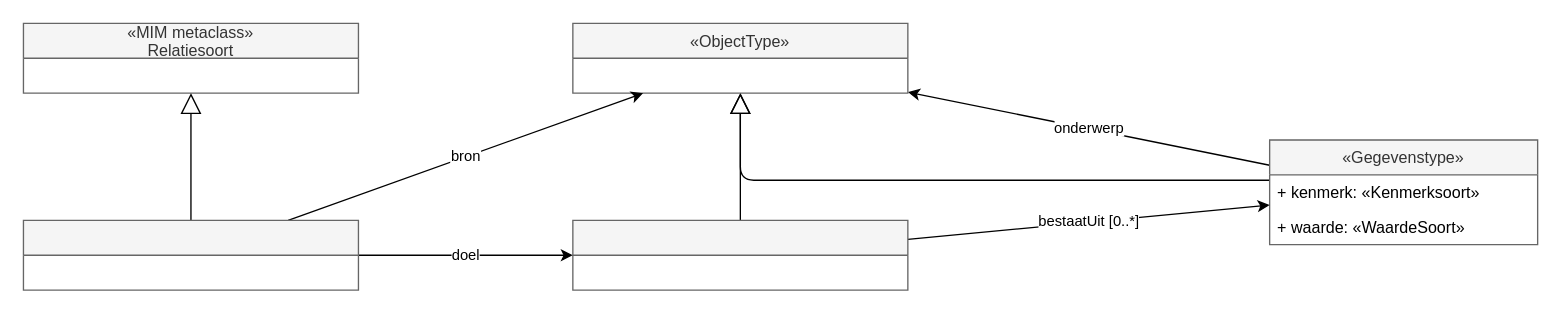
Image size: 1561x314. Some labels were removed from this diagram. The centre of each missing label's shape, as x and y in pixels:
"«MIM metaclass» Metadata" goes at (x=740, y=254).
"«MIM metaclass» MetadataRelatiesoort" goes at (x=190, y=254).
